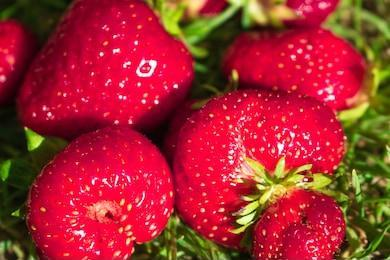Fresa: (163, 80, 348, 256), (8, 1, 200, 145), (20, 123, 179, 260), (215, 22, 381, 121), (245, 175, 347, 260)
